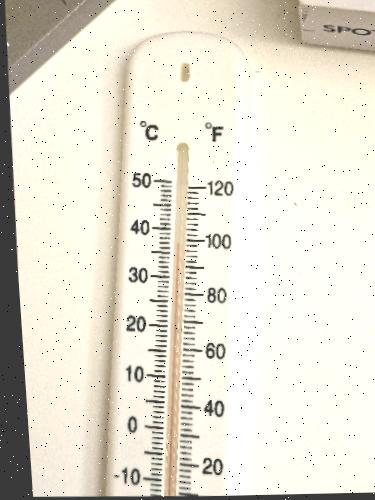thermo: (96, 28, 245, 499)
